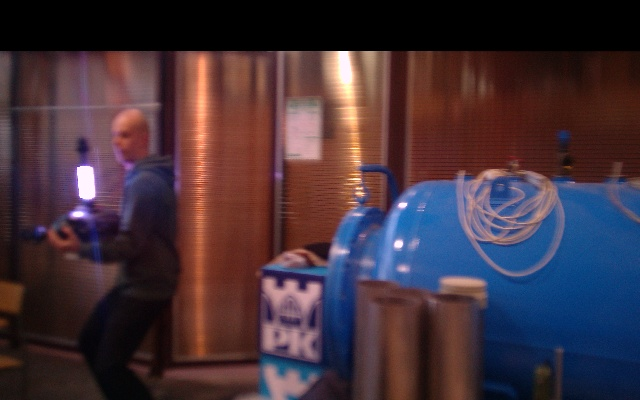white: (77, 165, 96, 203)
